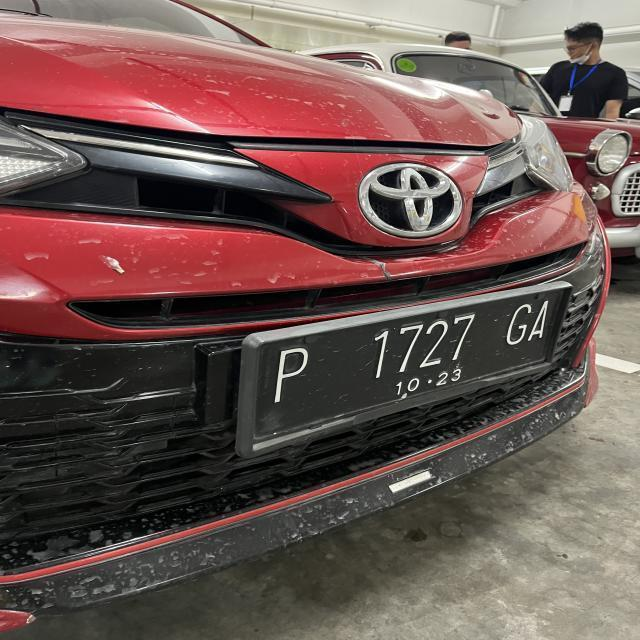1: (365, 328, 390, 378)
2: (420, 319, 451, 369)
7: (452, 311, 478, 362), (397, 325, 420, 372)
A: (530, 297, 552, 343)
G: (506, 304, 530, 352)
P: (270, 346, 310, 401)
